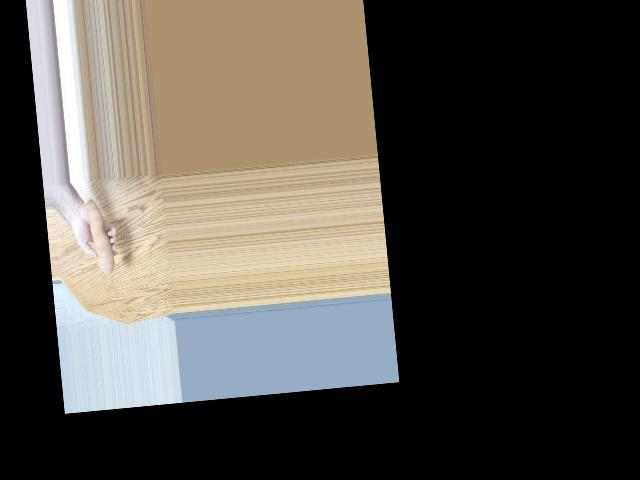sweet_potato: (83, 200, 120, 276)
